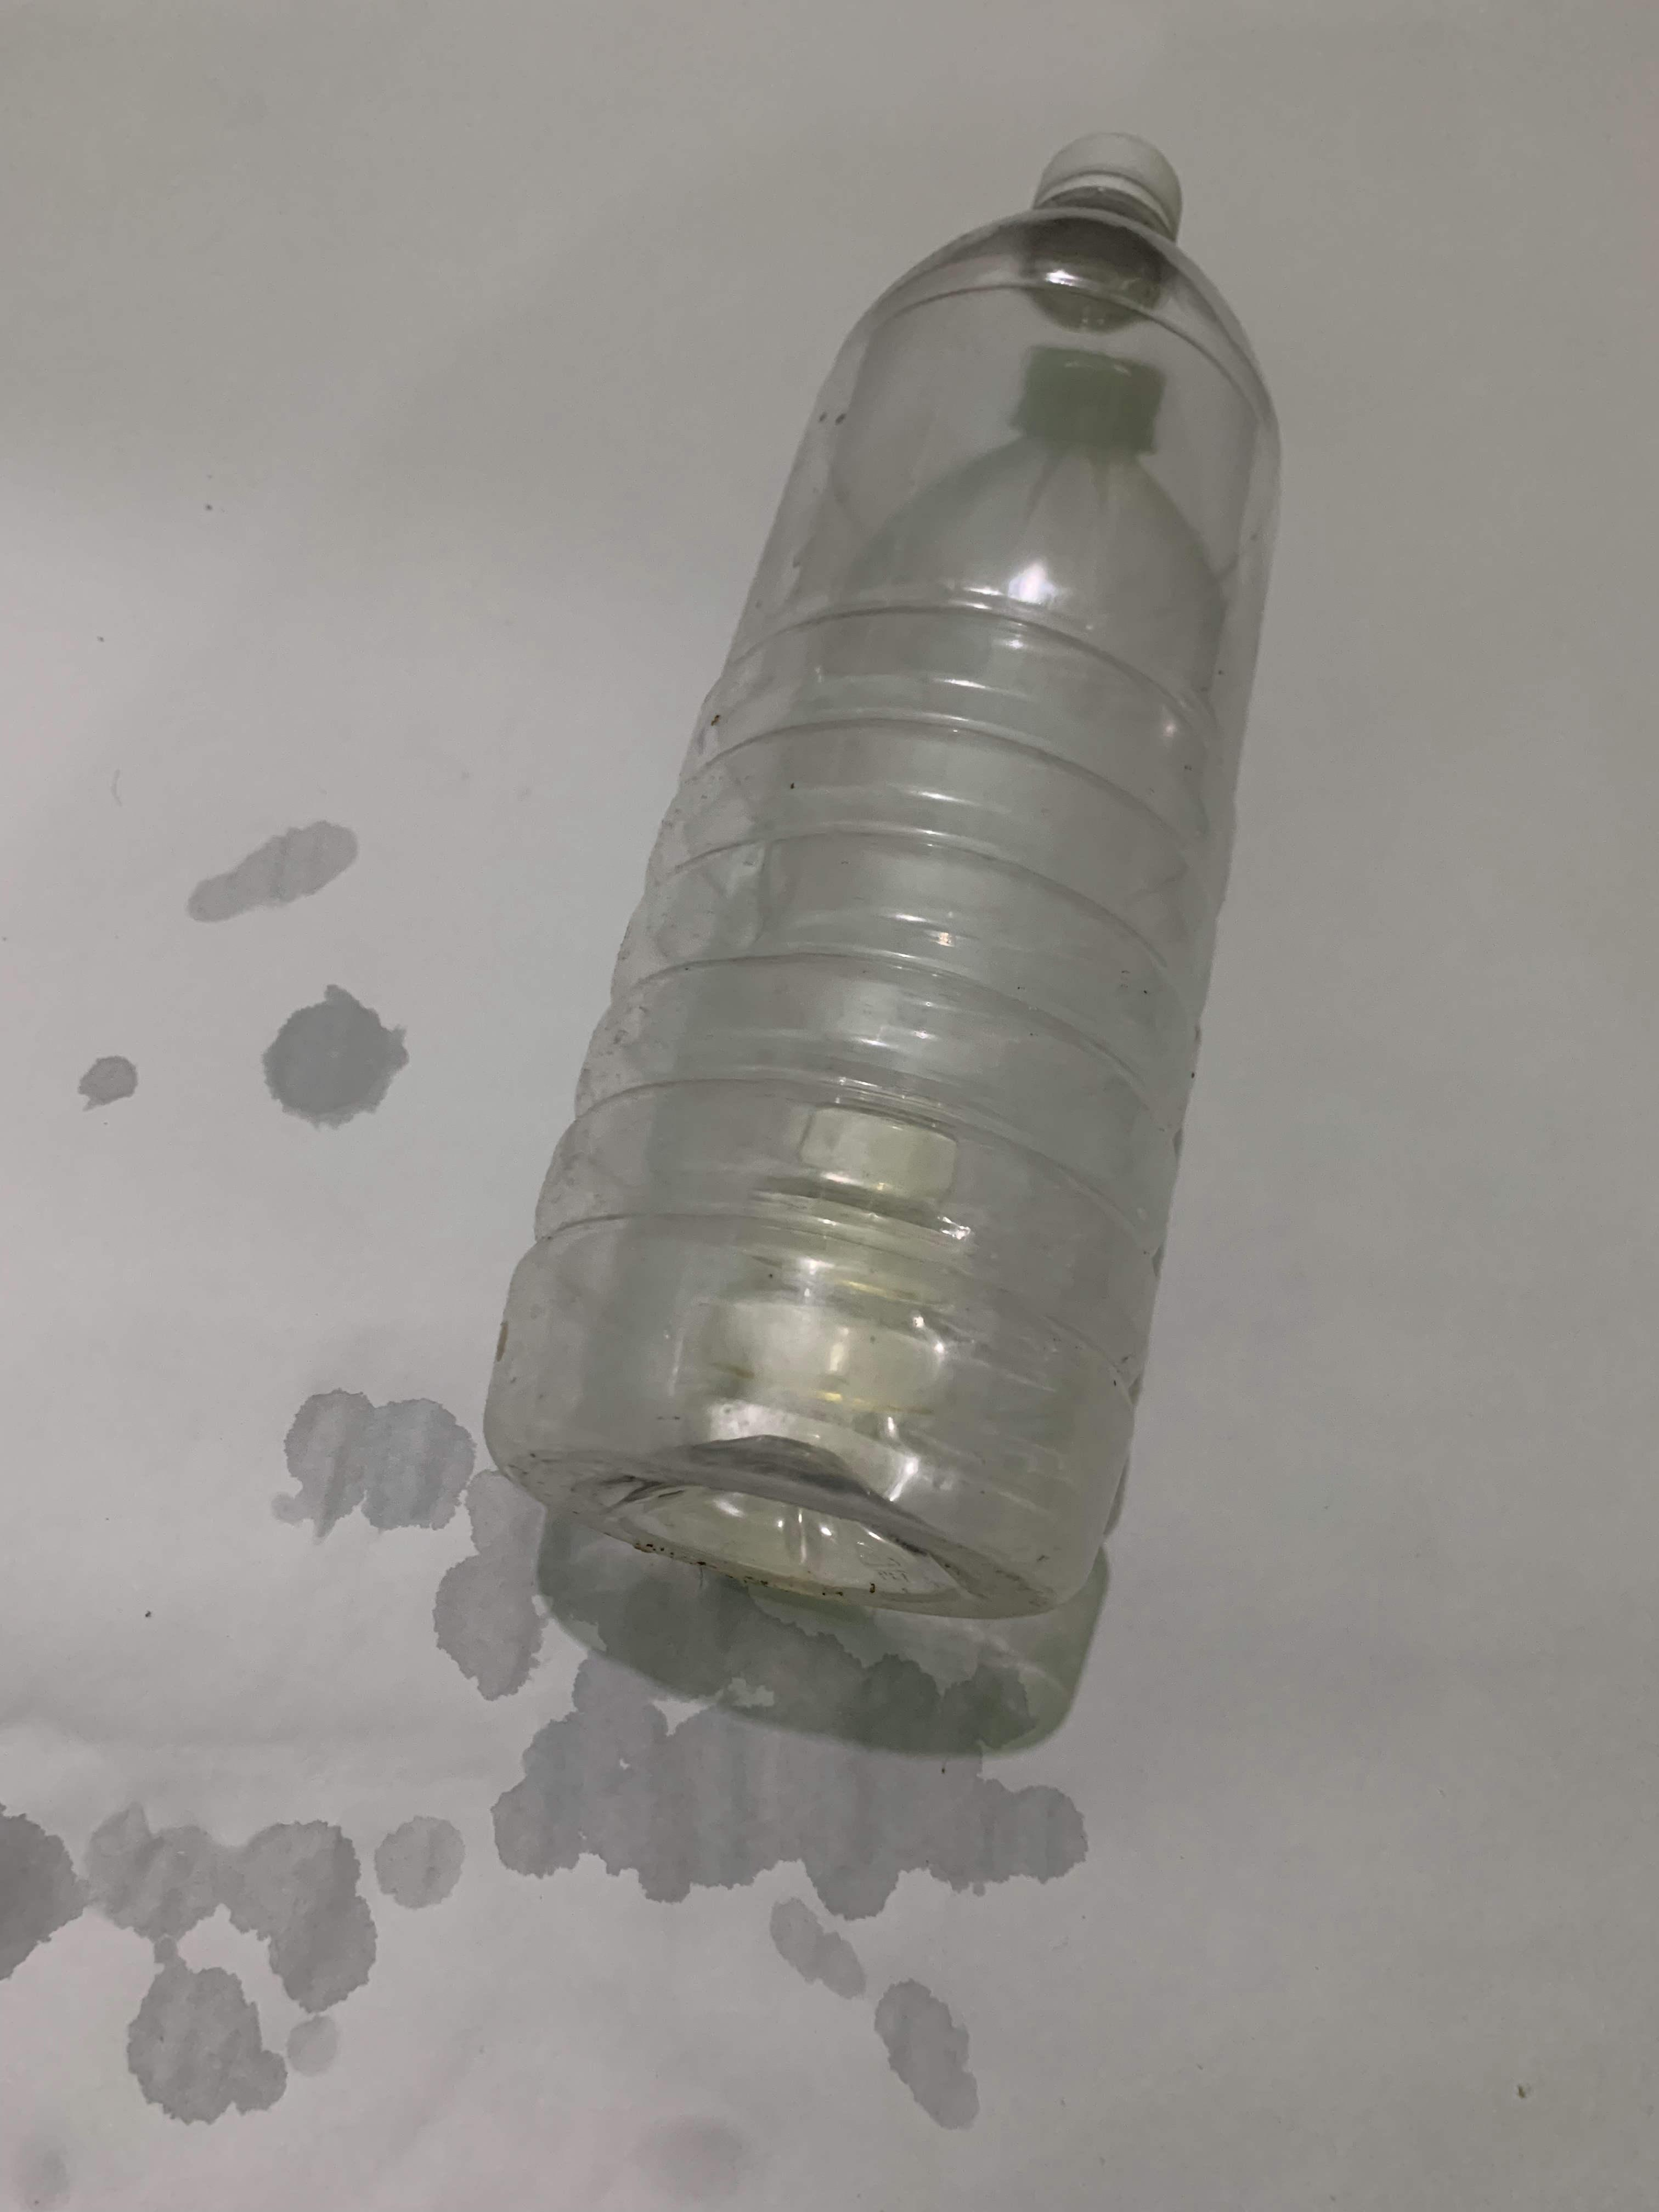bottle: (0, 120, 460, 1641)
